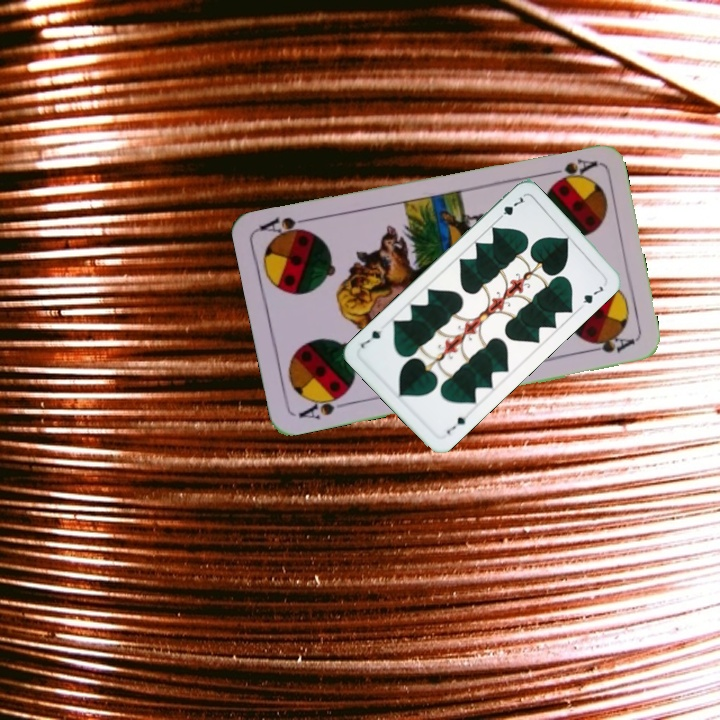G7: (493, 193, 528, 223), (442, 413, 468, 437)
SA: (295, 389, 352, 423), (540, 154, 599, 184)
